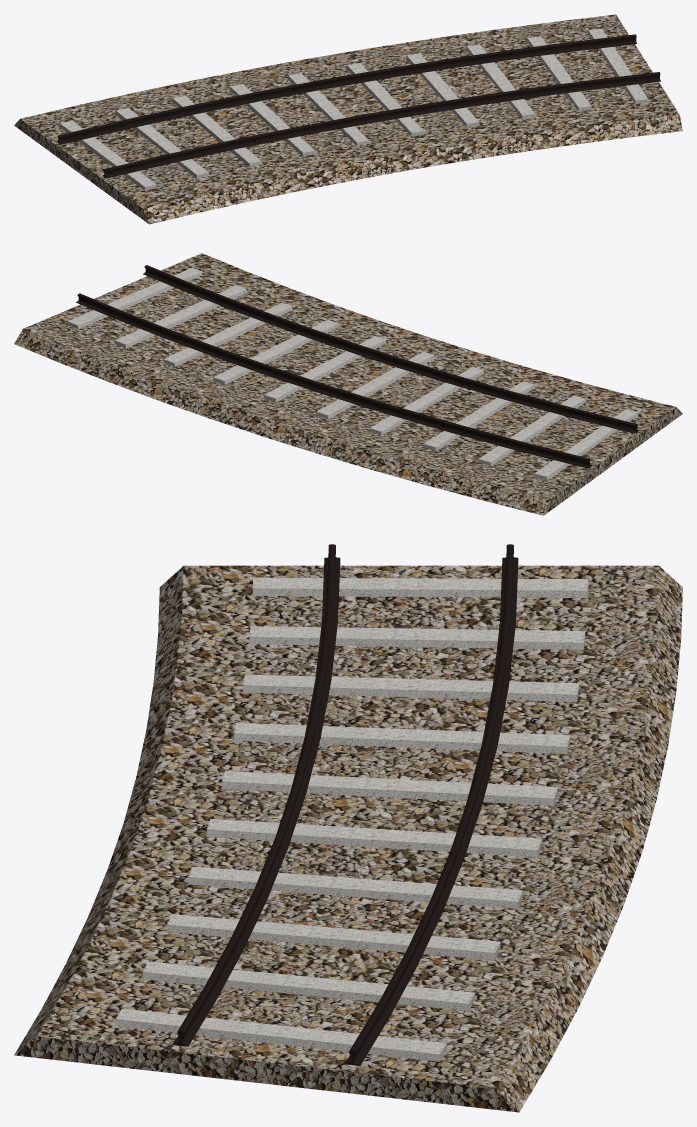
File: voiesFerreesCourbe10m.obj
The picture shows the model from 3 angles, top to bottom: view 1: azimuth 30°, elevation 25°; view 2: azimuth 150°, elevation 25°; view 3: azimuth 270°, elevation 25°; orthographic projection. The views are drawn at different scales.
Visible parts, largest first — view 1: ballas10m15degres_Plane.003, curve10m15degres_Point.002, traverse10m15degres_Cube.002; view 2: ballas10m15degres_Plane.003, traverse10m15degres_Cube.002, curve10m15degres_Point.002; view 3: ballas10m15degres_Plane.003, traverse10m15degres_Cube.002, curve10m15degres_Point.002.
Part boxes in pixels (x1,y1,x2,y2): ballas10m15degres_Plane.003: [14, 14, 682, 224]; curve10m15degres_Point.002: [56, 34, 660, 178]; traverse10m15degres_Cube.002: [59, 28, 648, 190]; ballas10m15degres_Plane.003: [14, 253, 682, 515]; traverse10m15degres_Cube.002: [67, 267, 637, 480]; curve10m15degres_Point.002: [76, 265, 638, 468]; ballas10m15degres_Plane.003: [14, 565, 682, 1112]; traverse10m15degres_Cube.002: [115, 577, 587, 1061]; curve10m15degres_Point.002: [173, 544, 518, 1065].
Size of the model in its own units: 1045 by 39.86 by 563.
